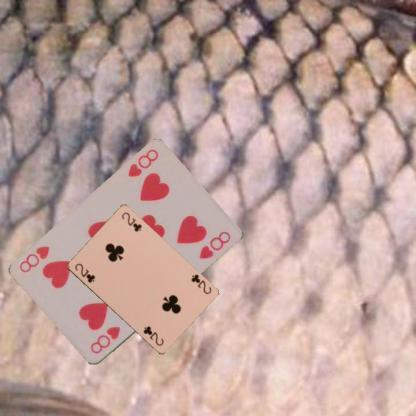2c: (188, 272, 213, 295), (72, 261, 96, 284)
8h: (87, 324, 122, 356), (125, 147, 160, 179)
